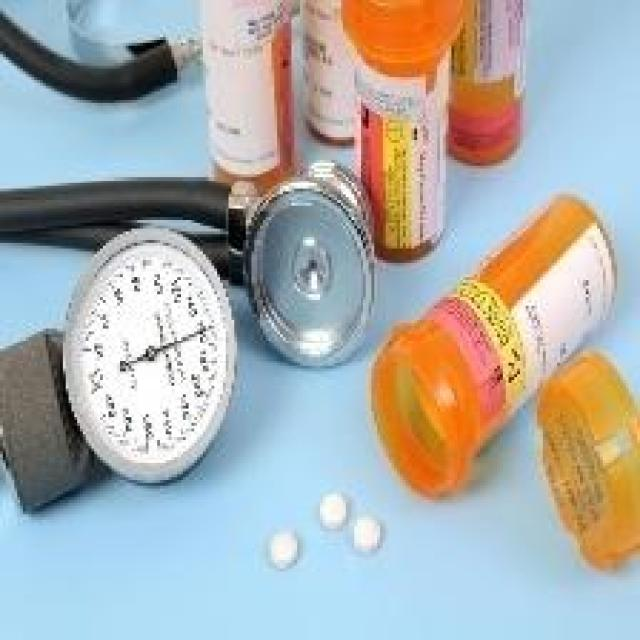Medicine: (258, 494, 406, 587)
